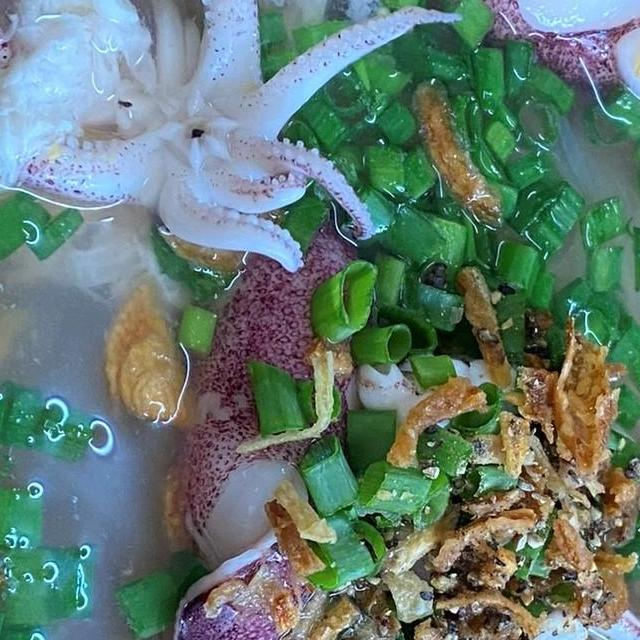muc: (0, 0, 467, 287), (152, 222, 390, 640), (367, 0, 640, 147)
